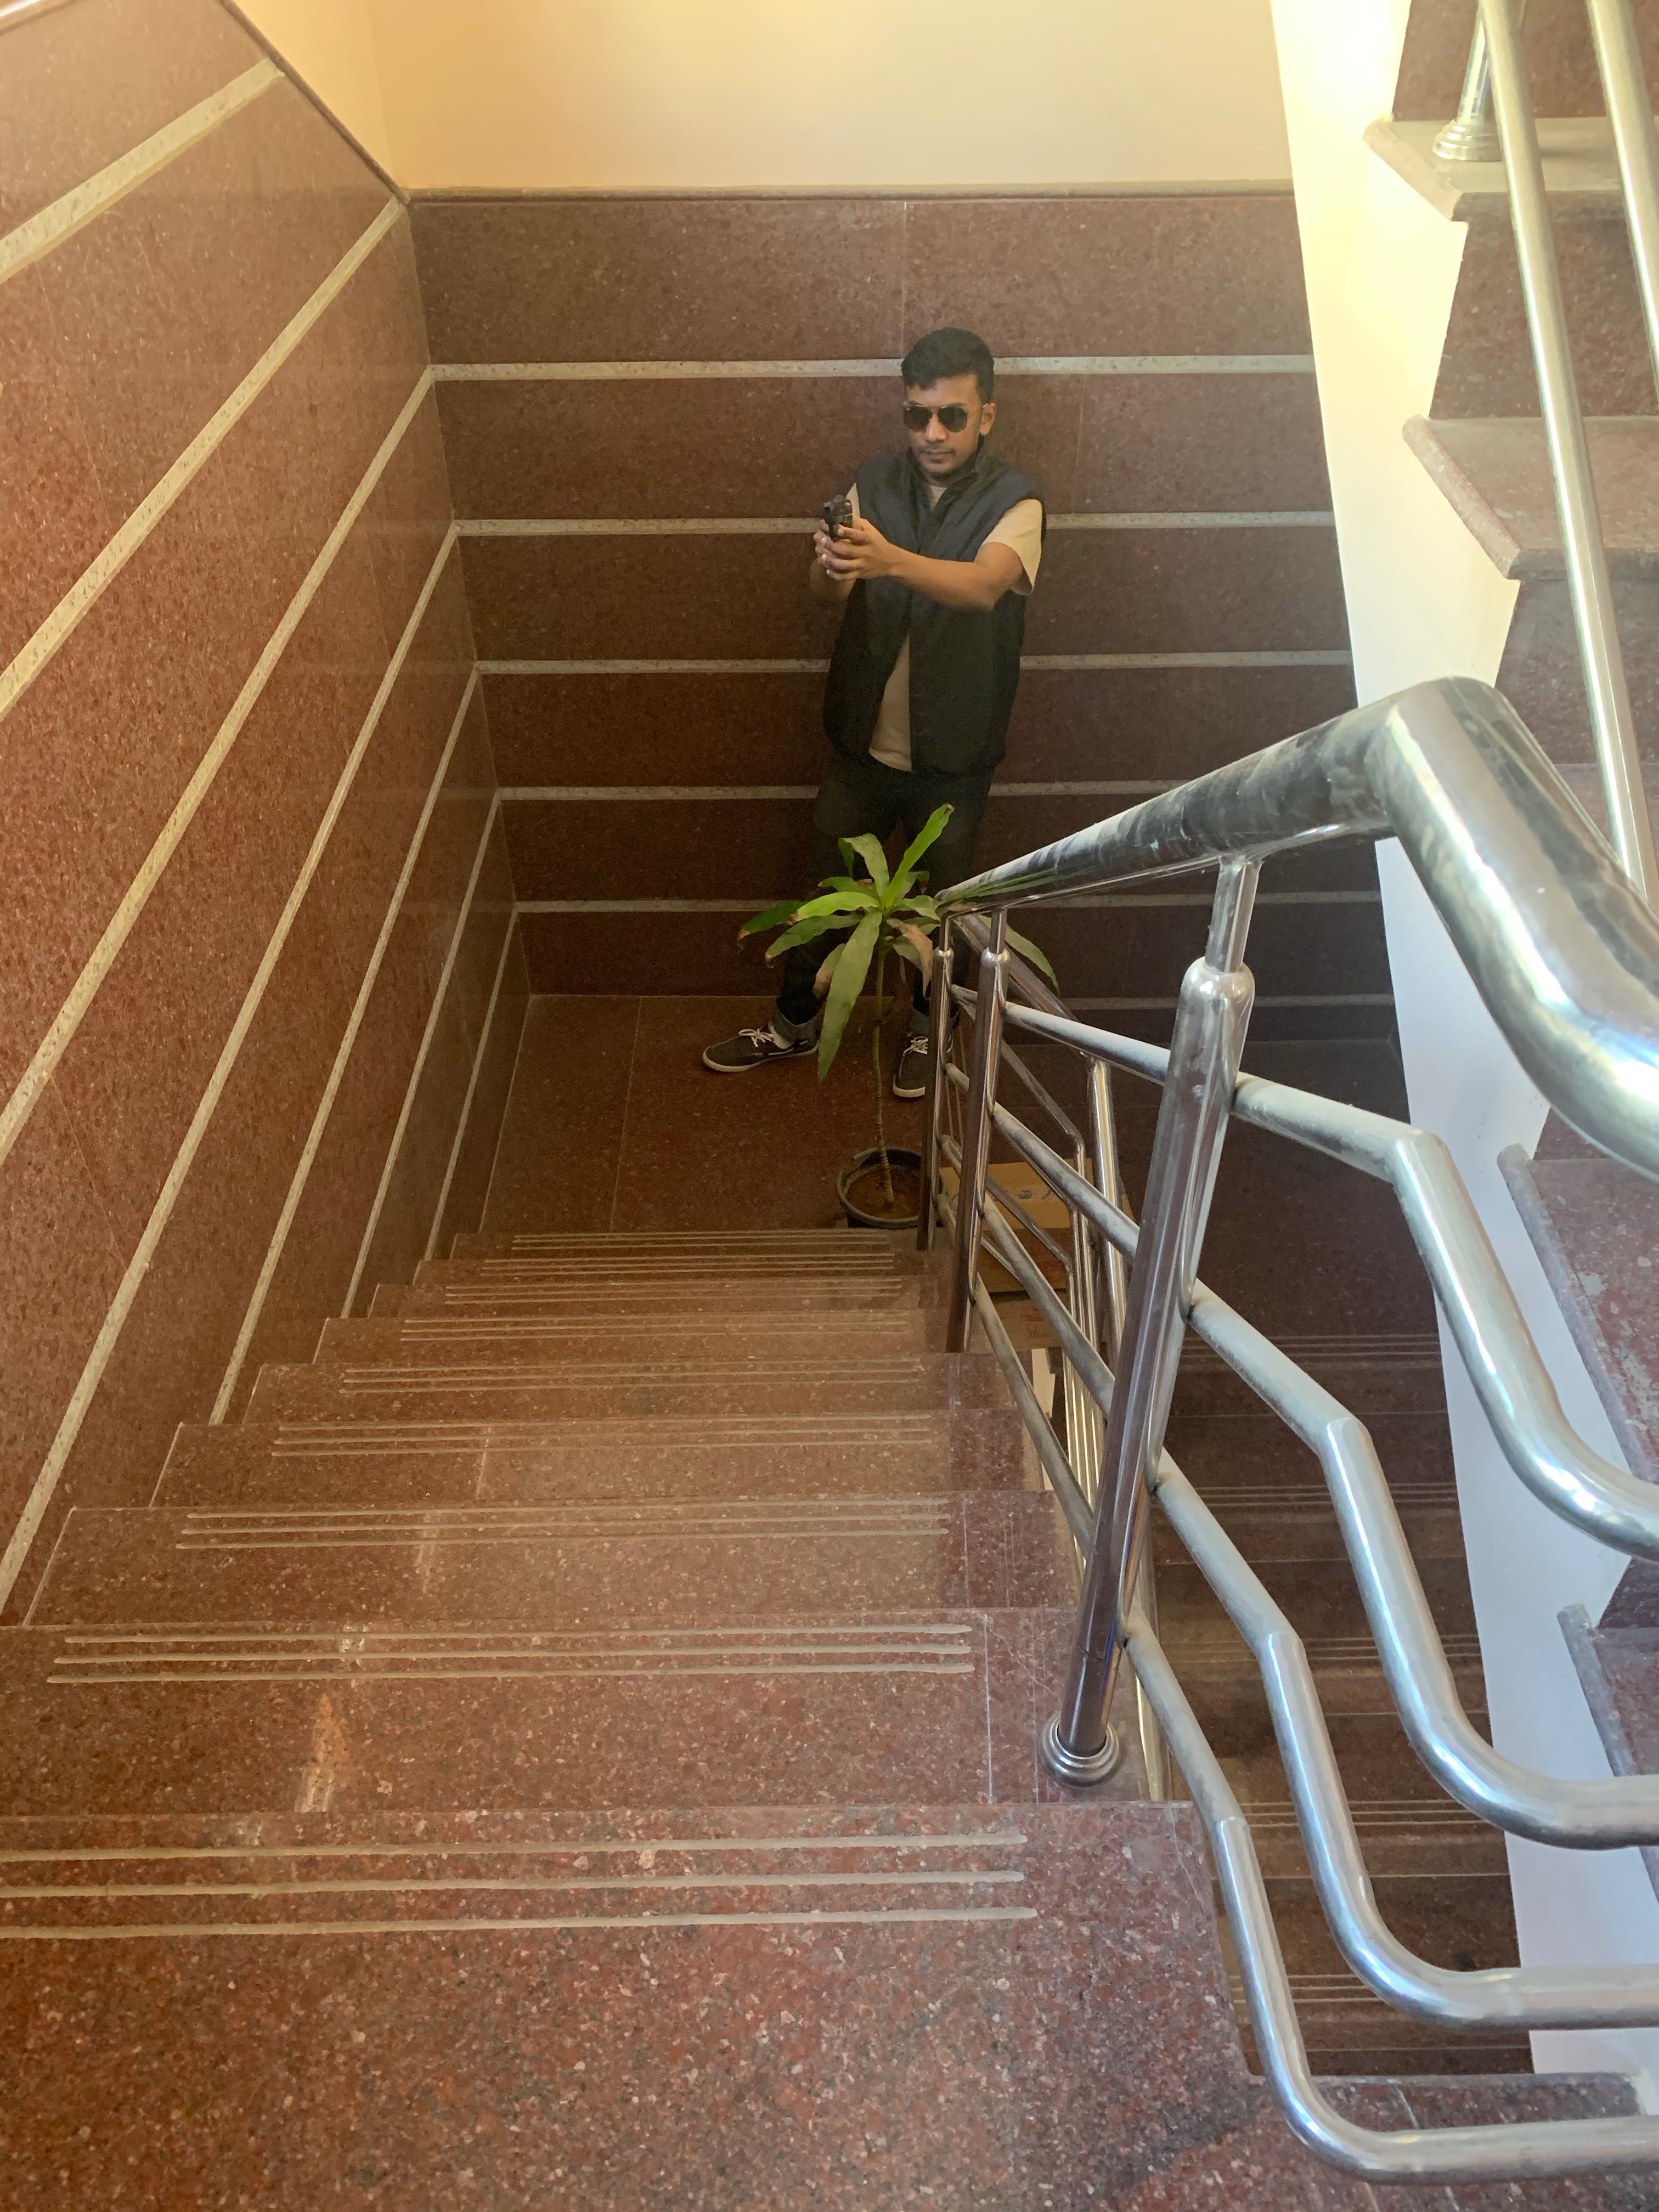gun: (803, 484, 859, 575)
